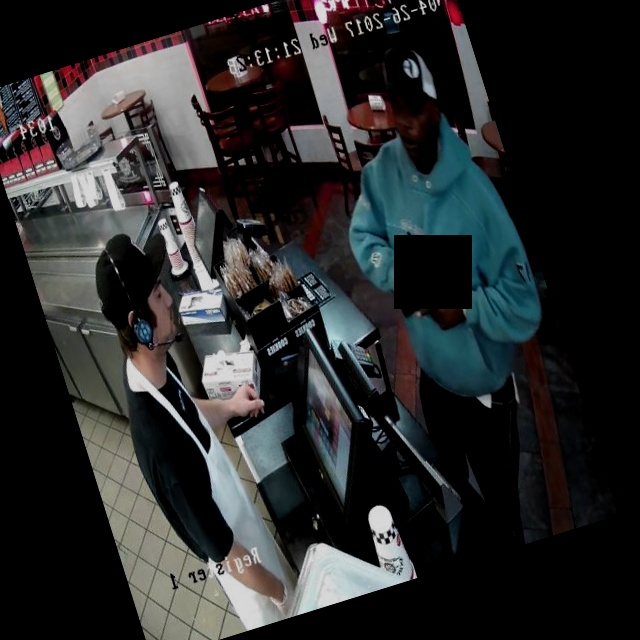gun: (379, 252, 462, 330)
